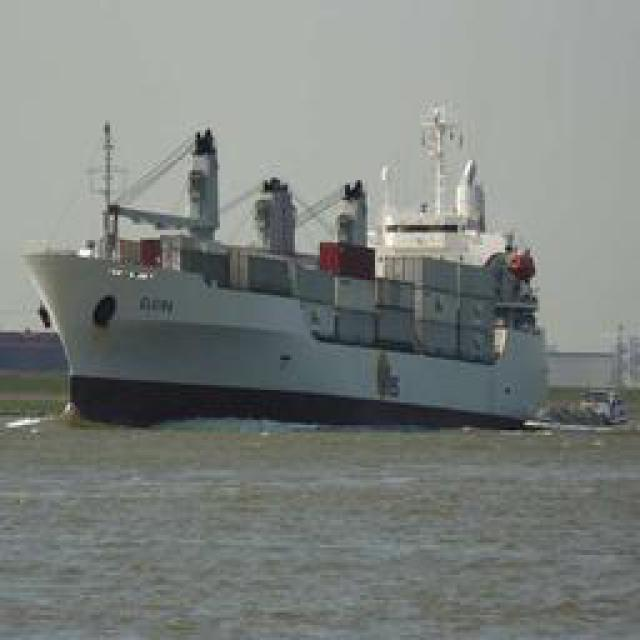Ship: (23, 140, 561, 420)
